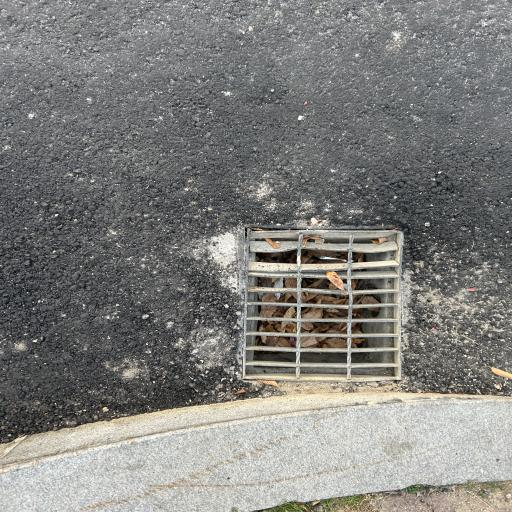drain: (243, 228, 403, 381)
